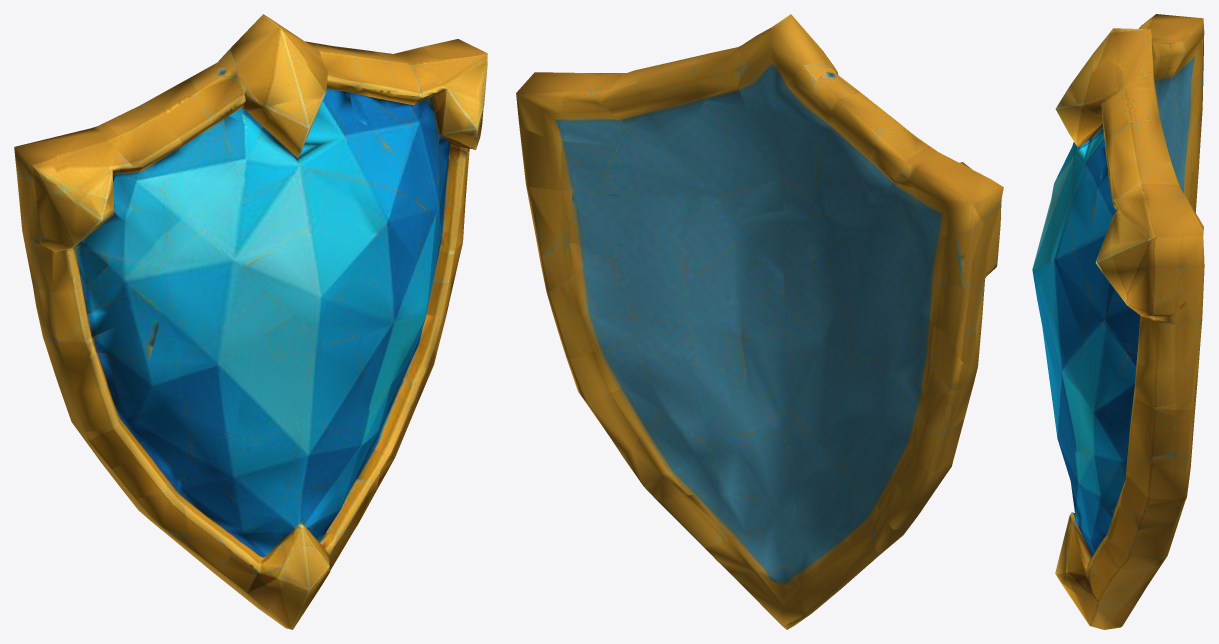
File: shield_emblem.glb
The picture shows the model from 3 angles, left to right: view 1: azimuth 30°, elevation 25°; view 2: azimuth 150°, elevation 25°; view 3: azimuth 270°, elevation 25°; orthographic projection. The views are drawn at different scales.
Visible parts, largest first — view 1: mesh_node; view 2: mesh_node; view 3: mesh_node.
Boxes of the visible parts, x1=… form: mesh_node: x1=14, y1=14, x2=487, y2=629; mesh_node: x1=516, y1=14, x2=1003, y2=629; mesh_node: x1=1032, y1=14, x2=1204, y2=629.
Size of the model in its own units: 1.52 by 1.9 by 0.493.
1 material, 1 textured.
